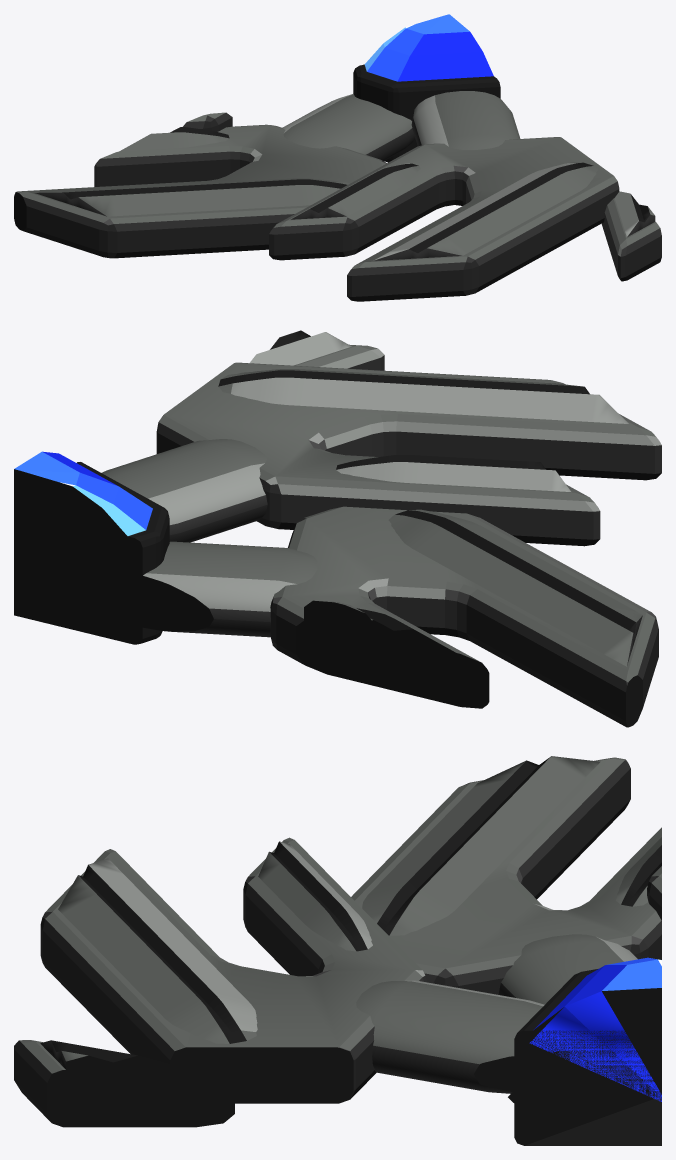
File: dark_saw_199.glb
3 views of the same model, one above another, from view 1: azimuth 30°, elevation 25°; view 2: azimuth 150°, elevation 25°; view 3: azimuth 270°, elevation 25° (orthographic). The views are drawn at different scales.
Parts seen in each view (by area): view 1: dark_saw_199_arm2_plate, dark_saw_199_under2_plate, dark_saw_199_under2_ridge0, dark_saw_199_arm2_ridge0, dark_saw_199_gem, dark_saw_199_under2_rod, dark_saw_199_arm2_rod, dark_saw_199_gem_bezel, dark_saw_199_under1_plate, dark_saw_199_arm2_ridge1, dark_saw_199_under2_ridge1, dark_saw_199_under1_ridge1 (+1 smaller); view 2: dark_saw_199_arm2_plate, dark_saw_199_under2_plate, dark_saw_199_gem_bezel, dark_saw_199_arm2_ridge0, dark_saw_199_under2_ridge0, dark_saw_199_under2_rod, dark_saw_199_gem, dark_saw_199_arm2_rod, dark_saw_199_arm2_ridge1, dark_saw_199_arm3_plate, dark_saw_199_under2_ridge1, dark_saw_199_under1_ridge1 (+1 smaller); view 3: dark_saw_199_arm2_plate, dark_saw_199_under2_plate, dark_saw_199_arm2_rod, dark_saw_199_under2_ridge0, dark_saw_199_gem_bezel, dark_saw_199_arm2_ridge0, dark_saw_199_gem, dark_saw_199_under1_plate, dark_saw_199_arm2_ridge1, dark_saw_199_under2_rod, dark_saw_199_under1_ridge1, dark_saw_199_under2_ridge1 (+1 smaller).
Part boxes in pixels (x1,y1,x2,y2): dark_saw_199_arm2_plate: (269, 137, 619, 301); dark_saw_199_under2_plate: (14, 124, 386, 258); dark_saw_199_under2_ridge0: (35, 178, 349, 216); dark_saw_199_arm2_ridge0: (373, 162, 597, 260); dark_saw_199_gem: (364, 14, 493, 81); dark_saw_199_under2_rod: (282, 94, 415, 160); dark_saw_199_arm2_rod: (411, 91, 520, 149); dark_saw_199_gem_bezel: (353, 64, 500, 162); dark_saw_199_under1_plate: (601, 198, 661, 281); dark_saw_199_arm2_ridge1: (291, 163, 420, 219); dark_saw_199_under2_ridge1: (119, 127, 229, 151); dark_saw_199_under1_ridge1: (614, 191, 655, 236); dark_saw_199_arm2_plate: (156, 362, 661, 546); dark_saw_199_under2_plate: (270, 506, 658, 727); dark_saw_199_gem_bezel: (14, 462, 169, 644); dark_saw_199_arm2_ridge0: (218, 369, 628, 423); dark_saw_199_under2_ridge0: (388, 509, 642, 666); dark_saw_199_under2_rod: (90, 541, 317, 637); dark_saw_199_gem: (14, 451, 152, 575); dark_saw_199_arm2_rod: (101, 439, 267, 542); dark_saw_199_arm2_ridge1: (336, 455, 570, 491); dark_saw_199_arm3_plate: (304, 600, 374, 658); dark_saw_199_under2_ridge1: (338, 607, 466, 664); dark_saw_199_under1_ridge1: (249, 330, 351, 365); dark_saw_199_arm2_plate: (40, 837, 426, 1103); dark_saw_199_under2_plate: (351, 757, 661, 994); dark_saw_199_arm2_rod: (356, 980, 569, 1097); dark_saw_199_under2_ridge0: (362, 756, 600, 935); dark_saw_199_gem_bezel: (514, 969, 661, 1145); dark_saw_199_arm2_ridge0: (58, 858, 257, 1057); dark_saw_199_gem: (529, 957, 661, 1101); dark_saw_199_under1_plate: (14, 1040, 234, 1127); dark_saw_199_arm2_ridge1: (258, 841, 372, 951); dark_saw_199_under2_rod: (499, 934, 637, 1004); dark_saw_199_under1_ridge1: (40, 1040, 203, 1080); dark_saw_199_under2_ridge1: (615, 837, 661, 906).
Size of the model in its own units: 24 by 5.62 by 20.87.
